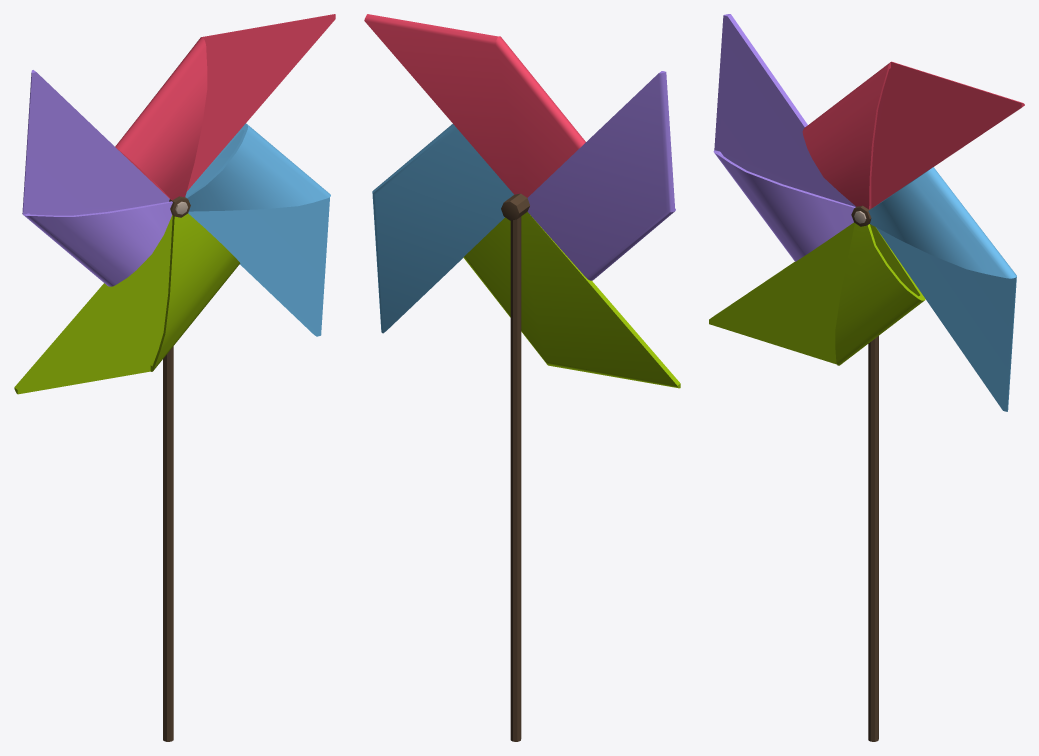
File: Windmill.fbx
3 renders of one model, left to right at view 1: azimuth 30°, elevation 25°; view 2: azimuth 150°, elevation 25°; view 3: azimuth 330°, elevation 25°, orthographic.
Visible parts, largest first — view 1: WindmillPart02, WindmillPart01; view 2: WindmillPart02, WindmillPart01; view 3: WindmillPart02, WindmillPart01.
Boxes of the visible parts, <box> form: WindmillPart02: <box>14,14,335,394</box>; WindmillPart01: <box>163,196,190,741</box>; WindmillPart02: <box>364,14,680,388</box>; WindmillPart01: <box>501,193,529,741</box>; WindmillPart02: <box>709,14,1024,411</box>; WindmillPart01: <box>851,205,878,741</box>.
Bounding box in the file's own units: 19.97 × 42.44 × 2.72.
